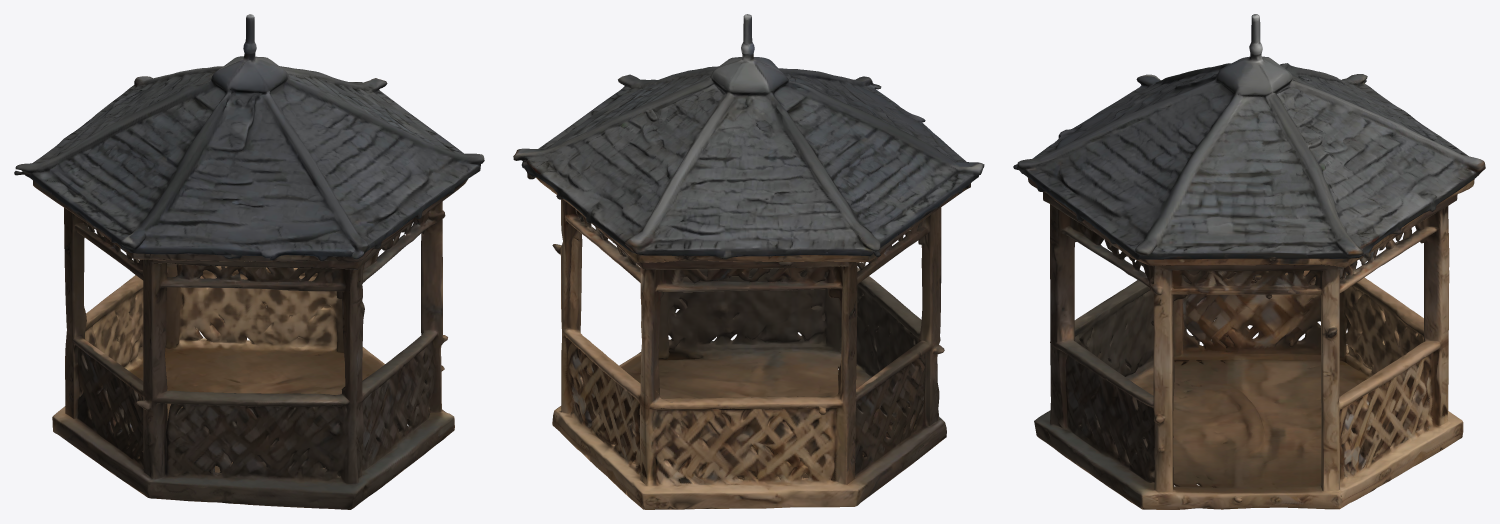
Rendered from prop-gazebo-small.glb.
The picture shows the model from 3 angles, left to right: view 1: azimuth 30°, elevation 25°; view 2: azimuth 150°, elevation 25°; view 3: azimuth 270°, elevation 25°; orthographic projection. The views are drawn at different scales.
Parts seen in each view (by area): view 1: tripo_node_b265f977-5649-4bcb-a2f6-c1d15b748a8a; view 2: tripo_node_b265f977-5649-4bcb-a2f6-c1d15b748a8a; view 3: tripo_node_b265f977-5649-4bcb-a2f6-c1d15b748a8a.
Boxes of the visible parts, bbox=[...] form: tripo_node_b265f977-5649-4bcb-a2f6-c1d15b748a8a: bbox=[14, 14, 484, 509]; tripo_node_b265f977-5649-4bcb-a2f6-c1d15b748a8a: bbox=[513, 14, 984, 509]; tripo_node_b265f977-5649-4bcb-a2f6-c1d15b748a8a: bbox=[1013, 14, 1485, 509].
Size of the model in its own units: 3.68 by 4 by 4.04.
Materials: 1 (1 with a texture image).
